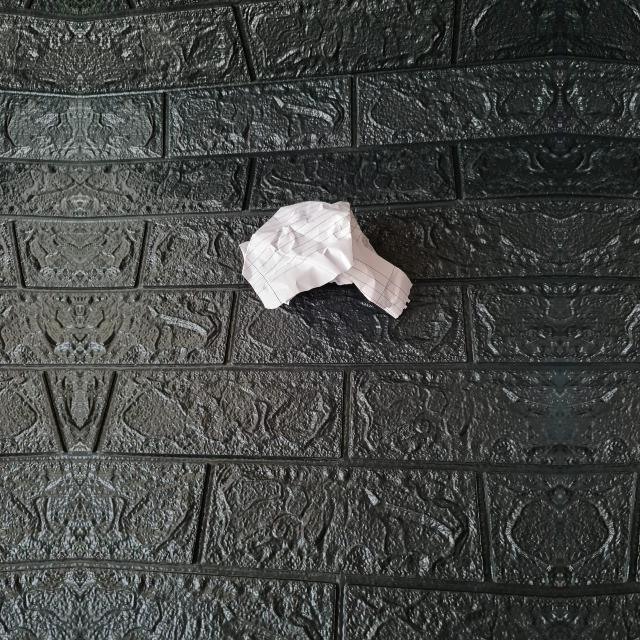paper: (226, 200, 414, 324)
